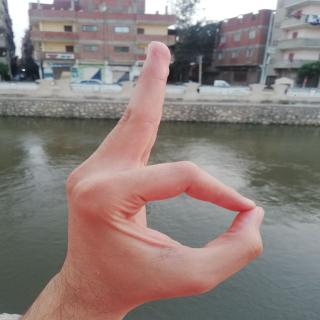Space: (58, 33, 273, 314)
